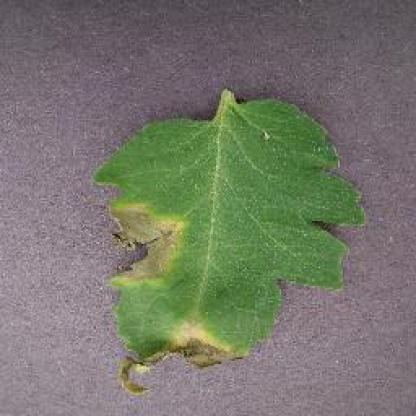bad leaf: (97, 196, 254, 362)
